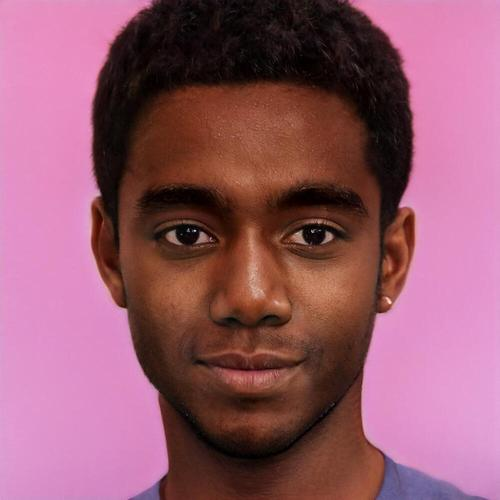no_mask: (123, 82, 385, 448)
